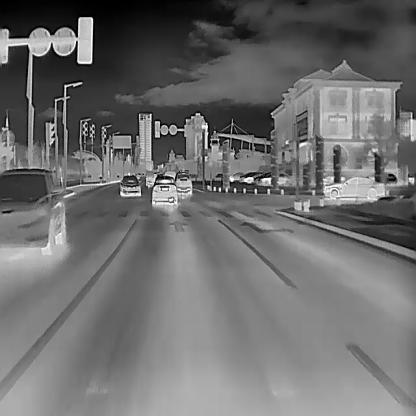car: (0, 165, 66, 255), (322, 174, 386, 199), (151, 174, 179, 206), (259, 169, 290, 186), (119, 174, 141, 197), (174, 169, 192, 195), (240, 170, 266, 182), (230, 170, 246, 181), (146, 172, 158, 186), (165, 169, 176, 182)
